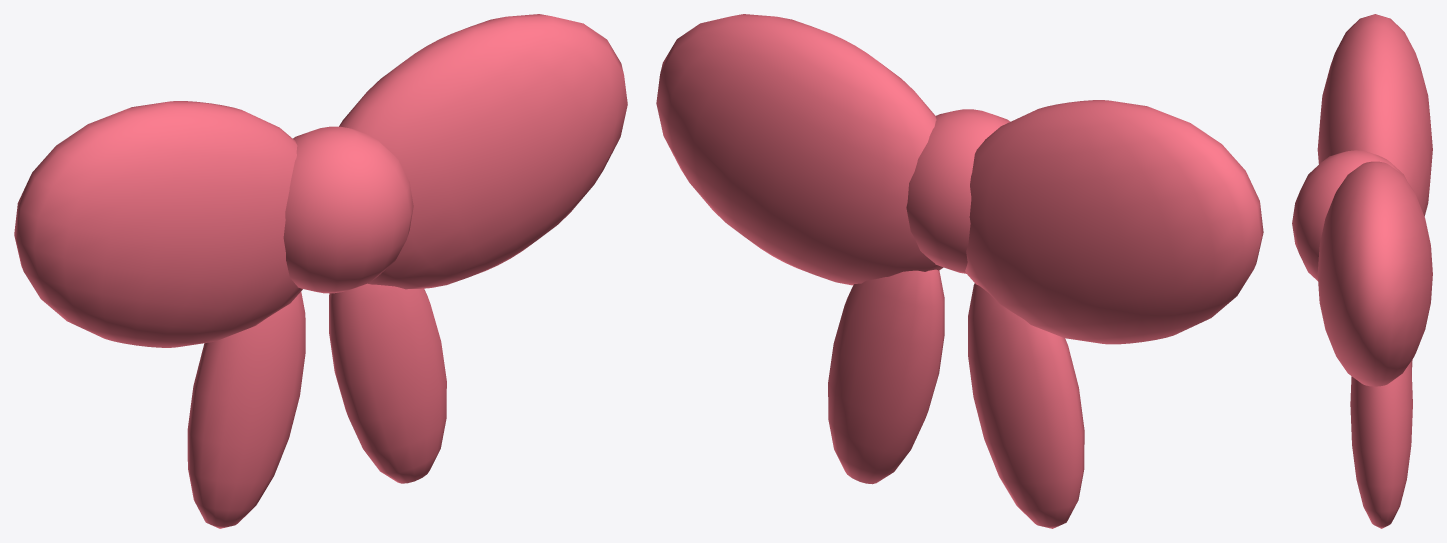
File: Acc_RedRibbon.fbx
The picture shows the model from 3 angles, left to right: view 1: azimuth 30°, elevation 25°; view 2: azimuth 150°, elevation 25°; view 3: azimuth 270°, elevation 25°; orthographic projection. The views are drawn at different scales.
Parts seen in each view (by area): view 1: Acc_RedRibbon; view 2: Acc_RedRibbon; view 3: Acc_RedRibbon.
Boxes of the visible parts, x1,y1,x2,y2 form: Acc_RedRibbon: [14, 14, 627, 528]; Acc_RedRibbon: [656, 14, 1263, 528]; Acc_RedRibbon: [1292, 14, 1432, 528].
Size of the model in its own units: 0.0947 by 0.0658 by 0.022.
